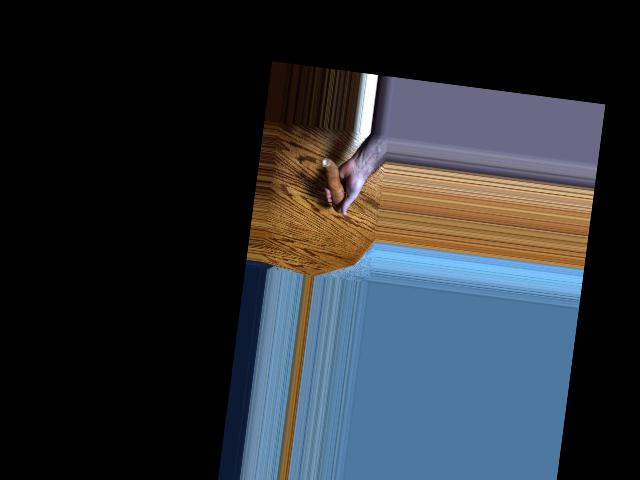sweet_potato: (316, 155, 352, 212)
